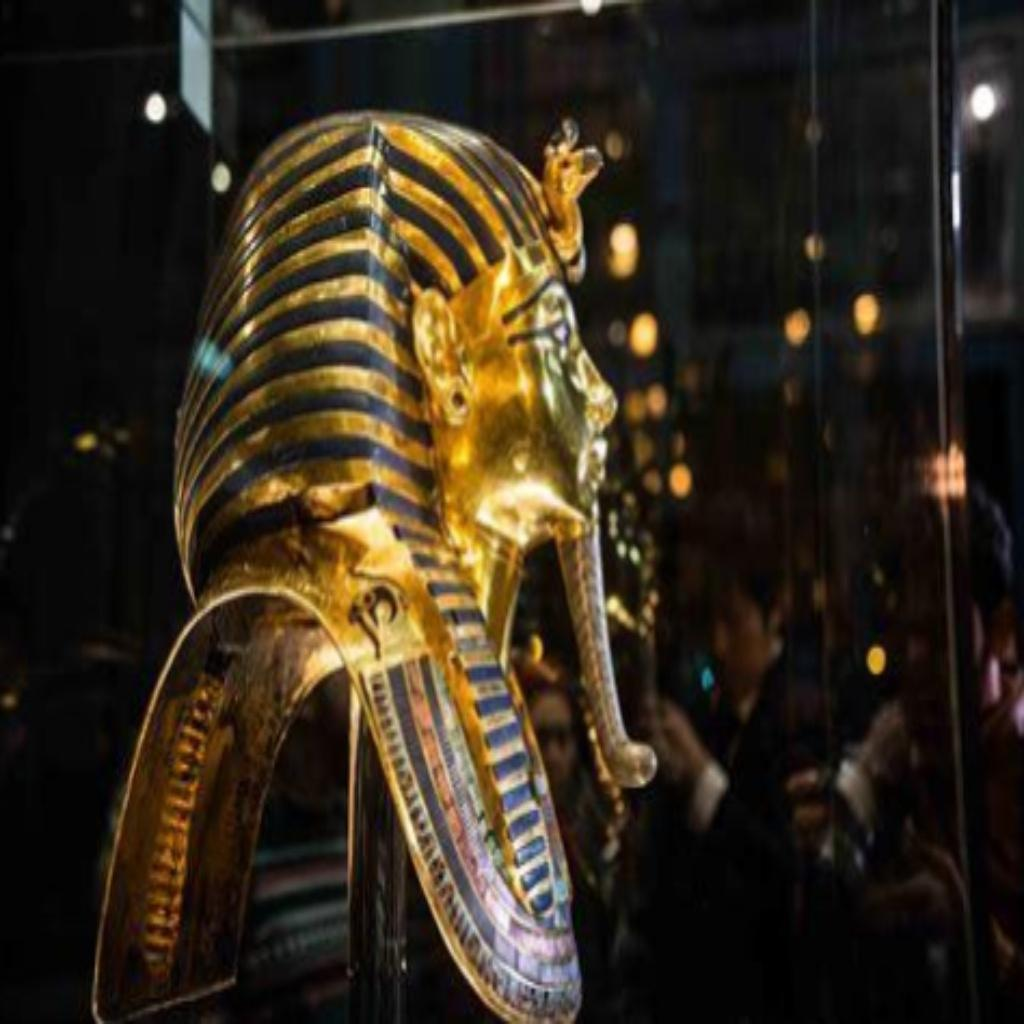Mask of Tutankhamun: (86, 100, 658, 1020)
